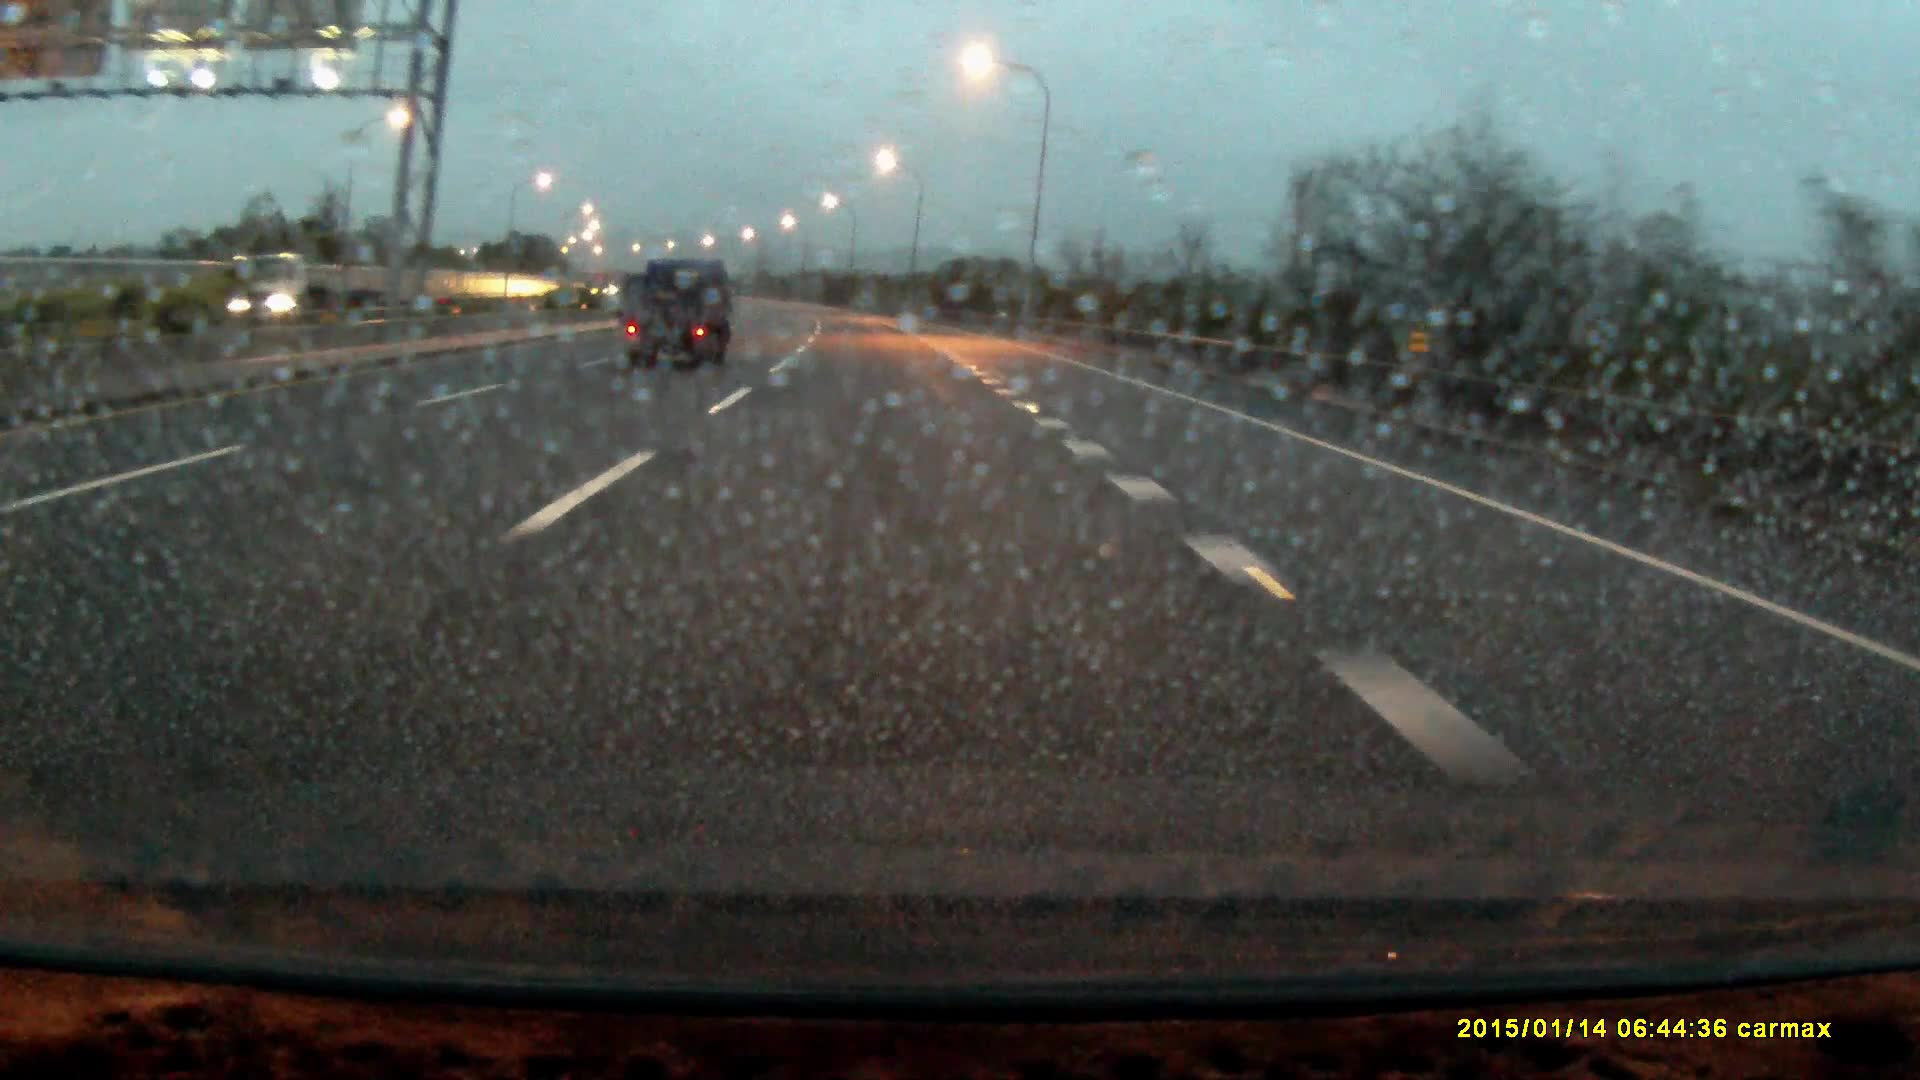vehicle: (625, 262, 737, 377), (227, 251, 376, 324)
